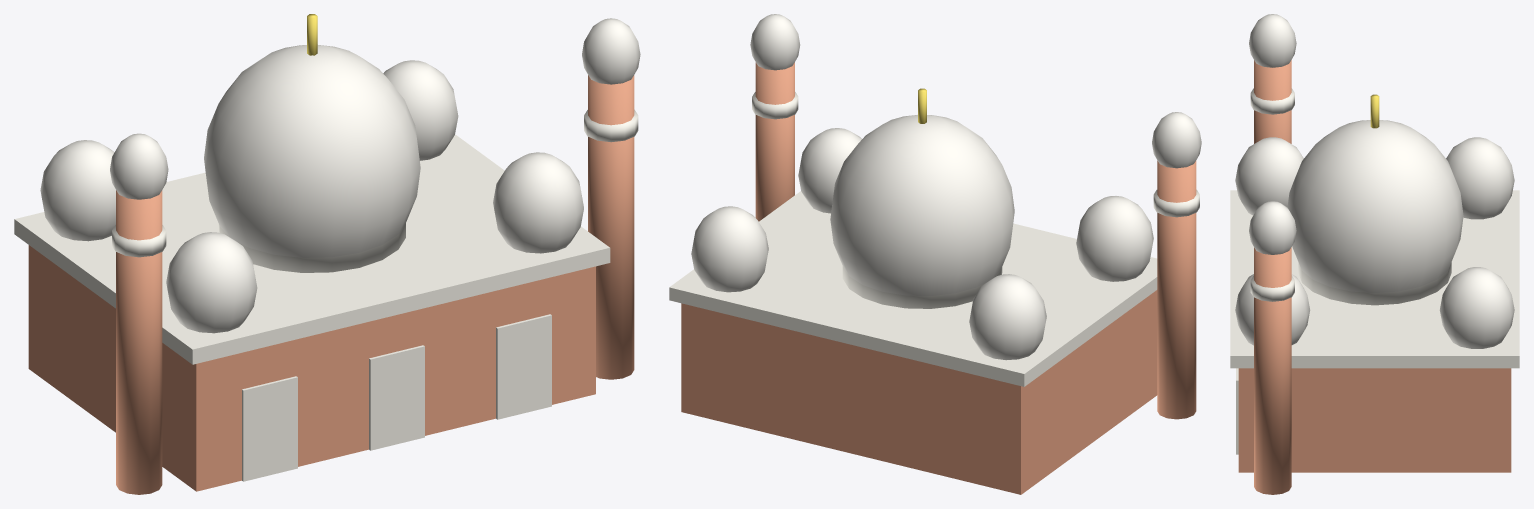
File: Bld_Masjid.fbx
The picture shows the model from 3 angles, left to right: view 1: azimuth 30°, elevation 25°; view 2: azimuth 150°, elevation 25°; view 3: azimuth 270°, elevation 25°; orthographic projection. The views are drawn at different scales.
Parts seen in each view (by area): view 1: Bld_Masjid; view 2: Bld_Masjid; view 3: Bld_Masjid.
Boxes of the visible parts, x1=… form: Bld_Masjid: x1=14, y1=14, x2=640, y2=494; Bld_Masjid: x1=669, y1=14, x2=1201, y2=494; Bld_Masjid: x1=1230, y1=14, x2=1519, y2=494.
Size of the model in its own units: 28.8 by 19.25 by 17.
